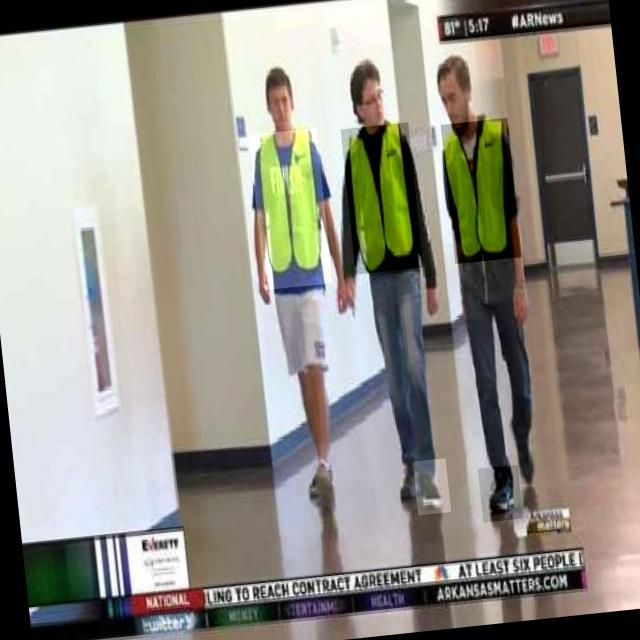Person: (230, 46, 343, 536), (437, 40, 543, 541), (343, 45, 438, 549)
Safety Boot: (478, 464, 523, 522), (509, 425, 541, 493), (413, 458, 451, 515), (305, 460, 343, 514), (393, 460, 418, 508)
Safety Vest: (248, 128, 332, 290), (340, 122, 423, 274), (441, 118, 522, 264)
bare-arms: (504, 280, 537, 321), (330, 275, 357, 318), (252, 269, 281, 309), (422, 279, 441, 329)
no-helmet: (348, 59, 386, 94), (439, 52, 478, 84), (264, 69, 297, 93)
